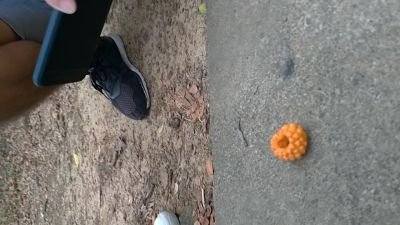eggs: (271, 122, 309, 162)
